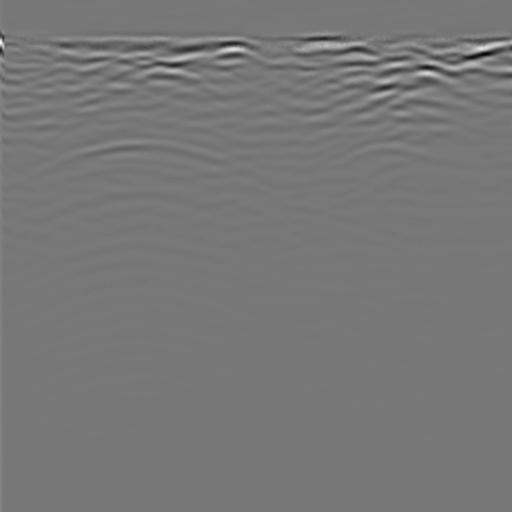hyperbola: (18, 128, 277, 280)
